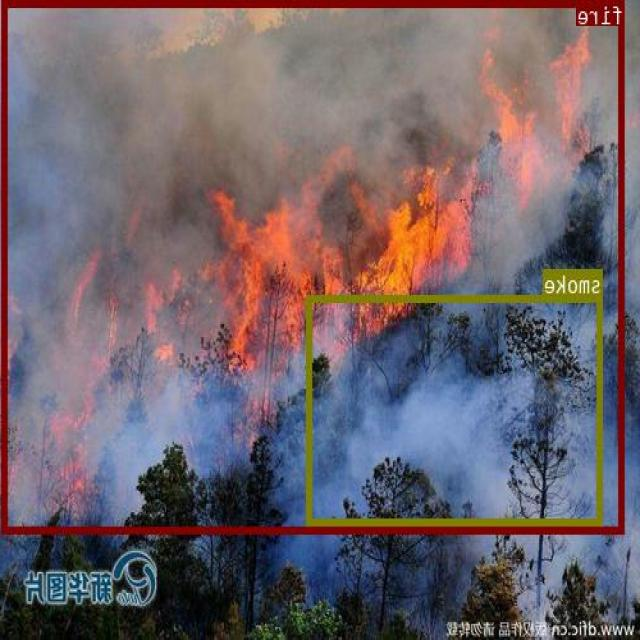fire: (4, 0, 626, 533)
smoke: (308, 294, 604, 524)
